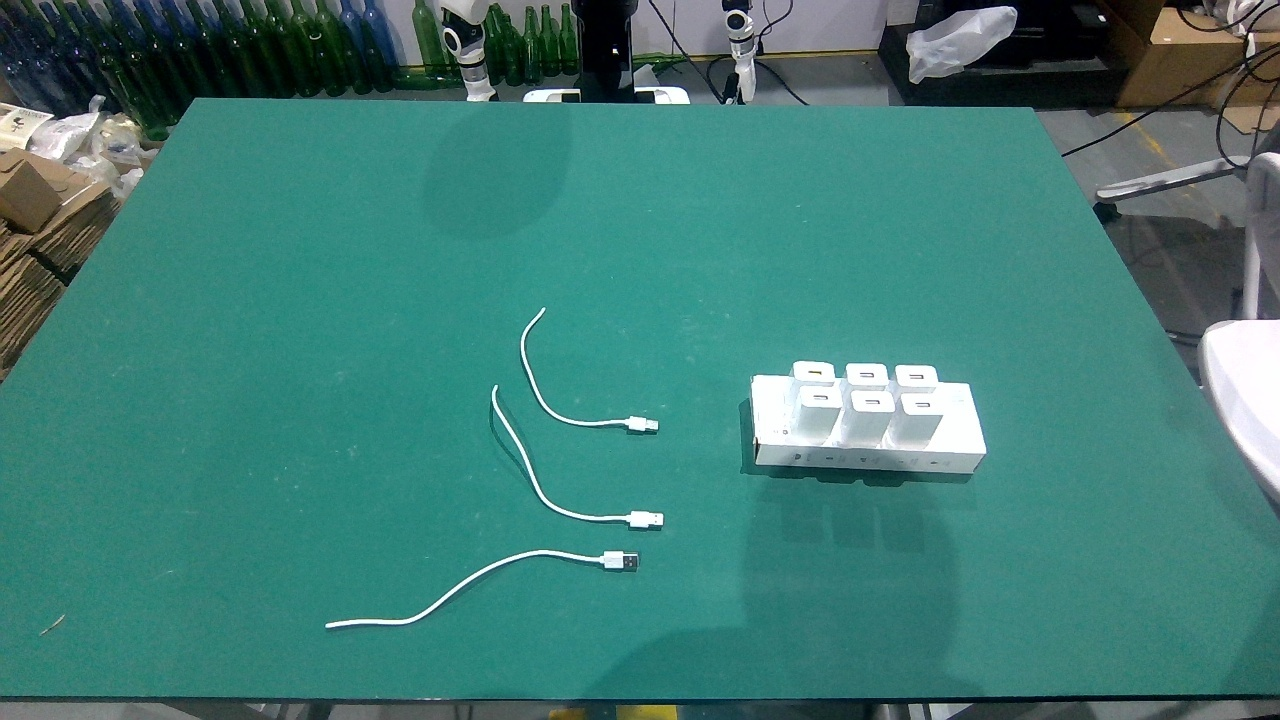usb_a_port: (912, 401, 932, 410), (862, 398, 883, 406), (806, 369, 825, 377), (857, 371, 876, 379), (907, 373, 926, 381), (811, 394, 830, 402)
